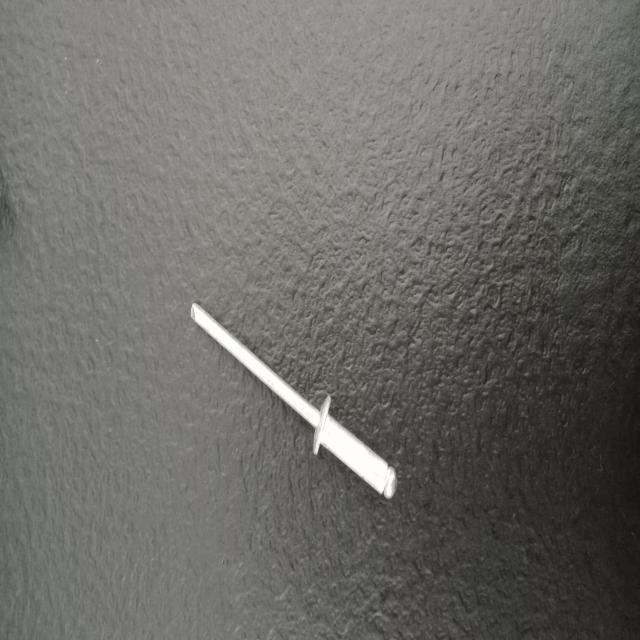rivet: (189, 303, 397, 498)
